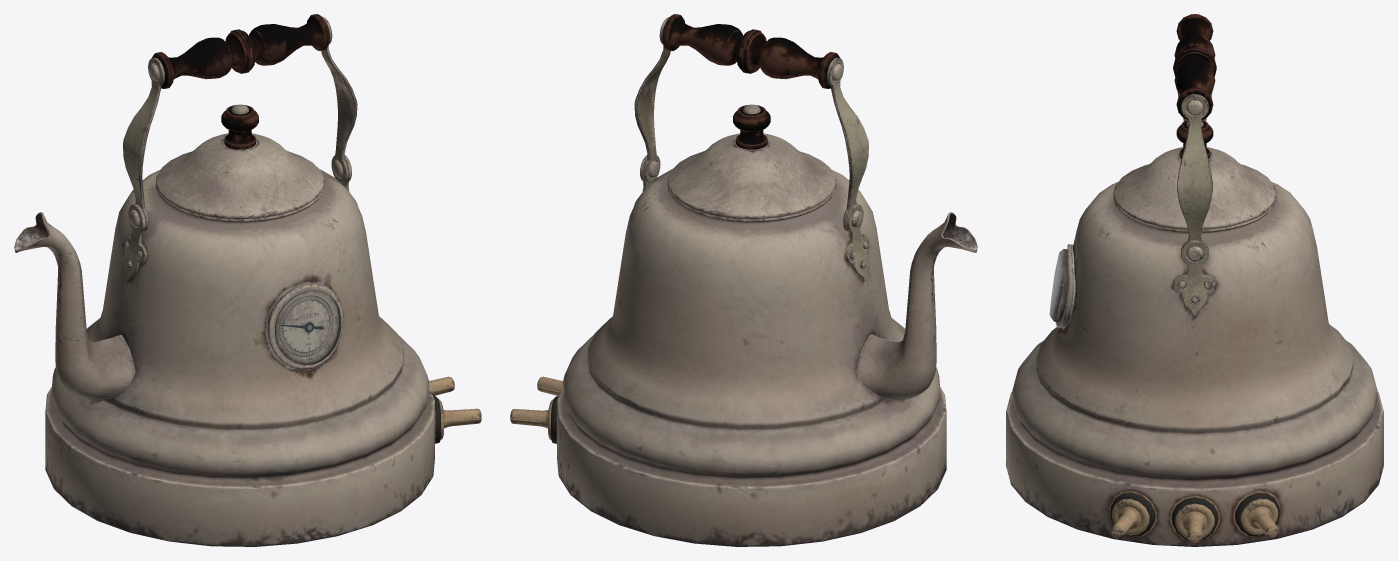
The model's file is kettle.glb.
3 views of the same model, side by side, from view 1: azimuth 30°, elevation 25°; view 2: azimuth 150°, elevation 25°; view 3: azimuth 270°, elevation 25° (orthographic). The views are drawn at different scales.
Parts seen in each view (by area): view 1: vintage_electric_kettle; view 2: vintage_electric_kettle; view 3: vintage_electric_kettle.
Boxes of the visible parts, x1,y1,x2,y2 form: vintage_electric_kettle: (14,14,481,546); vintage_electric_kettle: (510,14,977,546); vintage_electric_kettle: (1006,14,1383,546).
Size of the model in its own units: 0.3209 by 0.3047 by 0.2486.
2 materials, 2 textured.
